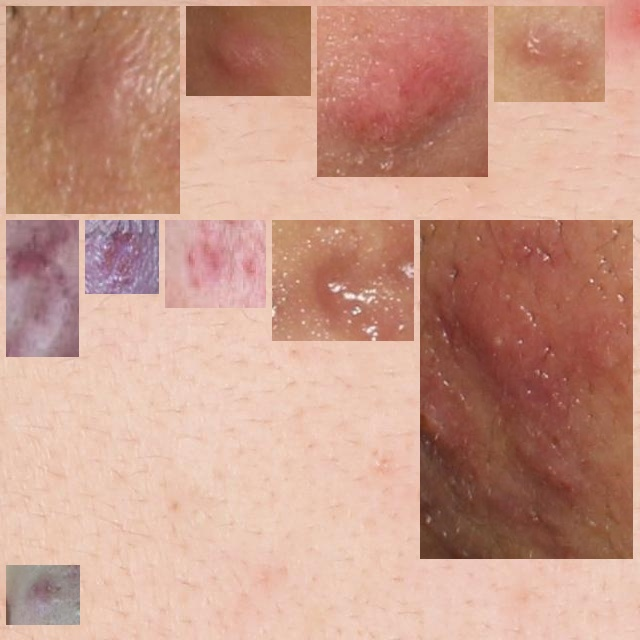nodule: (420, 228, 625, 551), (14, 14, 172, 206), (325, 14, 480, 169), (280, 228, 406, 333), (194, 14, 303, 88), (502, 14, 597, 94), (14, 228, 71, 349), (173, 228, 258, 300), (93, 228, 151, 286), (14, 573, 72, 617)
